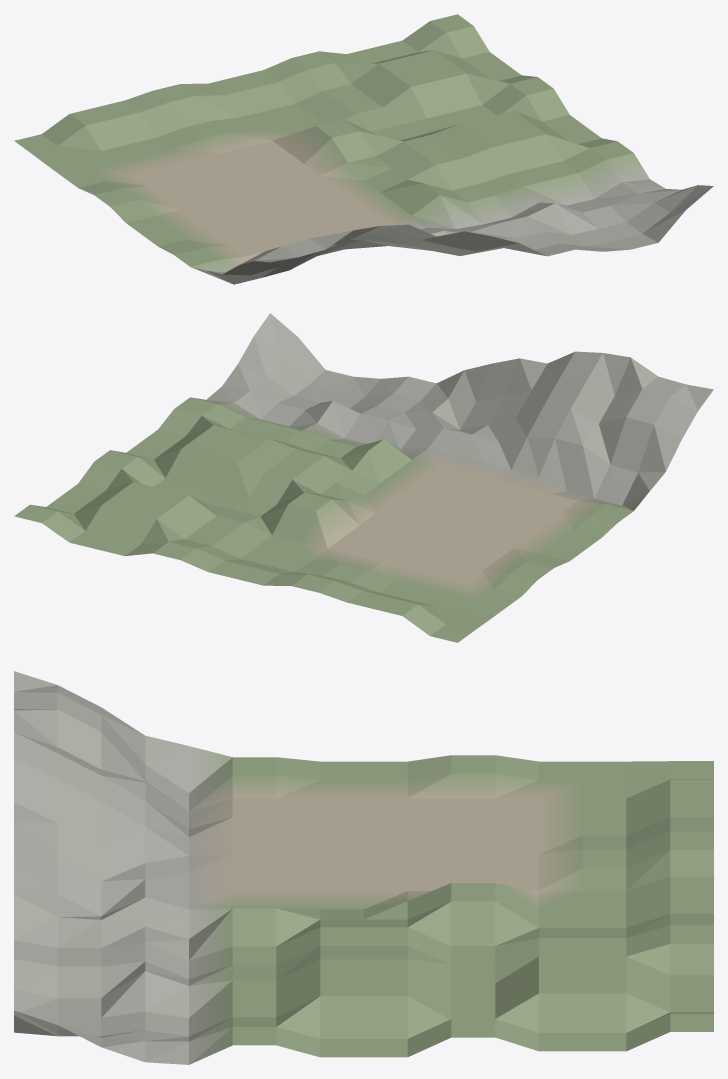
The picture shows the model from 3 angles, top to bottom: view 1: azimuth 30°, elevation 25°; view 2: azimuth 150°, elevation 25°; view 3: azimuth 270°, elevation 25°; orthographic projection. The views are drawn at different scales.
Size of the model in its own units: 32 by 6.19 by 32.
